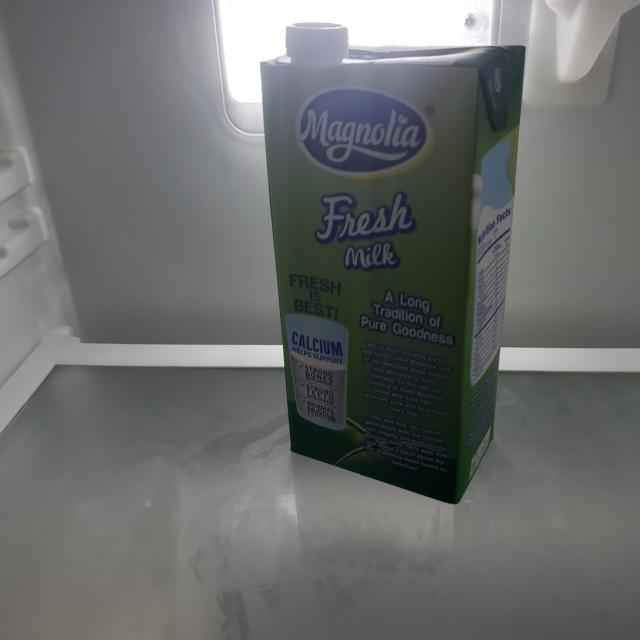milk: (260, 21, 527, 503)
